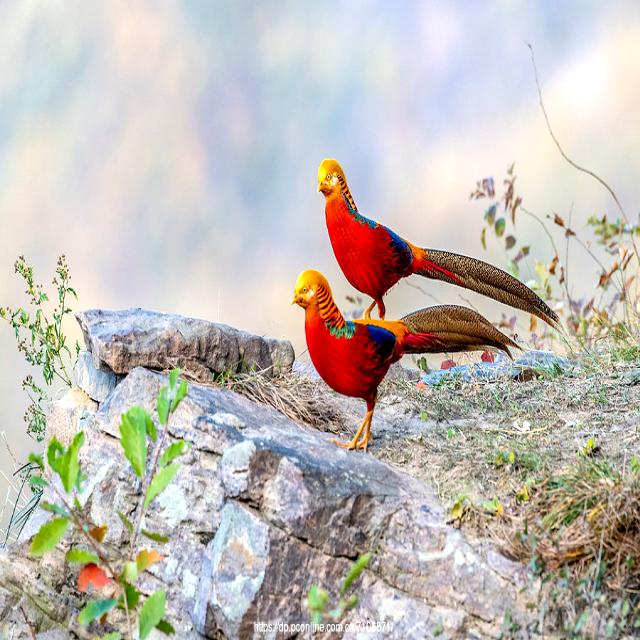Chrysolophus pictus feather: (411, 246, 558, 326), (402, 306, 516, 353)
